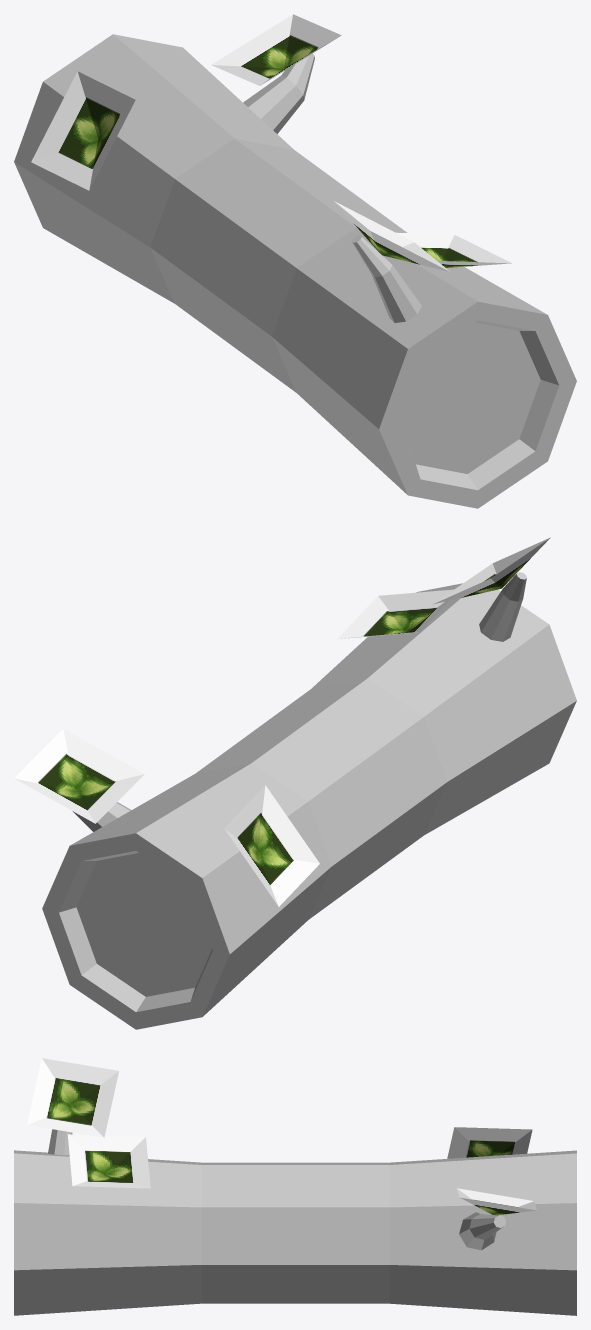
File: Log.fbx
The picture shows the model from 3 angles, top to bottom: view 1: azimuth 30°, elevation 25°; view 2: azimuth 150°, elevation 25°; view 3: azimuth 270°, elevation 25°; orthographic projection. The views are drawn at different scales.
Parts seen in each view (by area): view 1: Cylinder.001; view 2: Cylinder.001; view 3: Cylinder.001.
Boxes of the visible parts, <box> form: Cylinder.001: <box>14,14,576,508</box>; Cylinder.001: <box>14,537,576,1029</box>; Cylinder.001: <box>14,1058,576,1315</box>.
Size of the model in its own units: 158 by 160 by 369.
